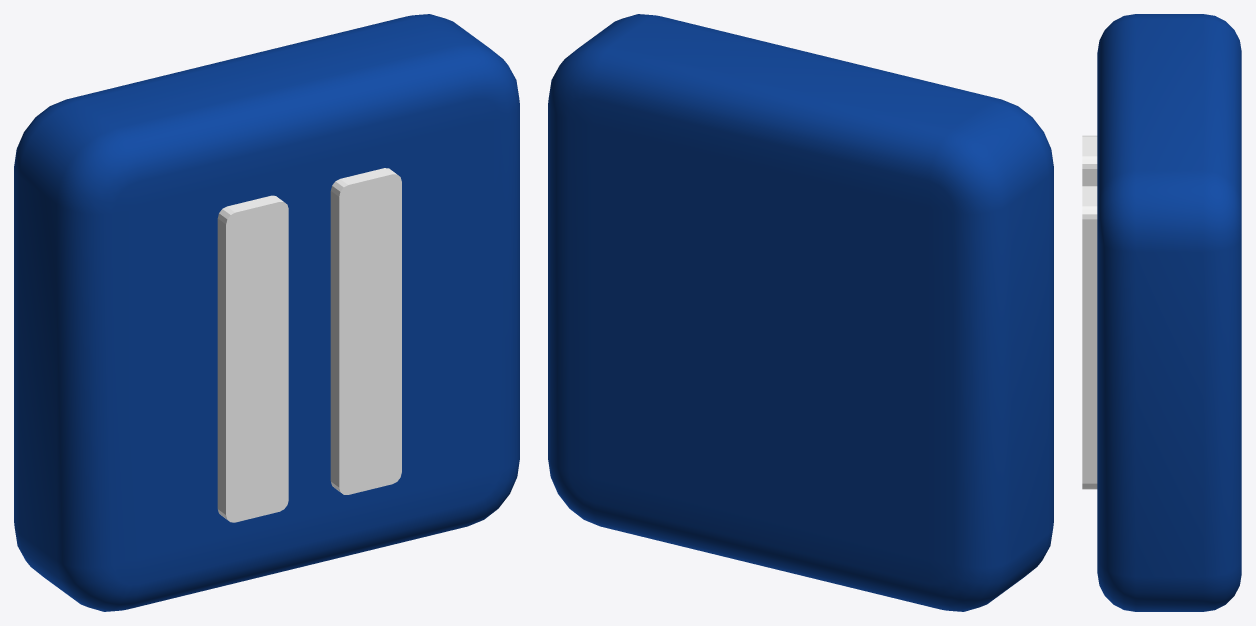
The model's file is pause_button.glb.
3 renders of one model, left to right at view 1: azimuth 30°, elevation 25°; view 2: azimuth 150°, elevation 25°; view 3: azimuth 270°, elevation 25°, orthographic. The views are drawn at different scales.
Parts seen in each view (by area): view 1: Cube.6430; view 2: Cube.6430; view 3: Cube.6430.
Boxes of the visible parts, left/top/right/bottom form: Cube.6430: left=14, top=14, right=519, bottom=611; Cube.6430: left=548, top=14, right=1053, bottom=611; Cube.6430: left=1082, top=14, right=1241, bottom=611.
Size of the model in its own units: 2.2 by 2.2 by 0.73.
Materials: 1 (1 with a texture image).
